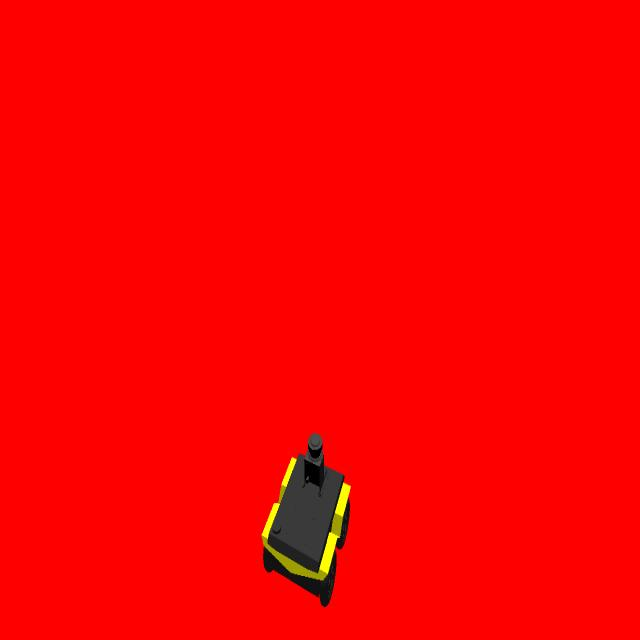jackal: (262, 429, 350, 610)
